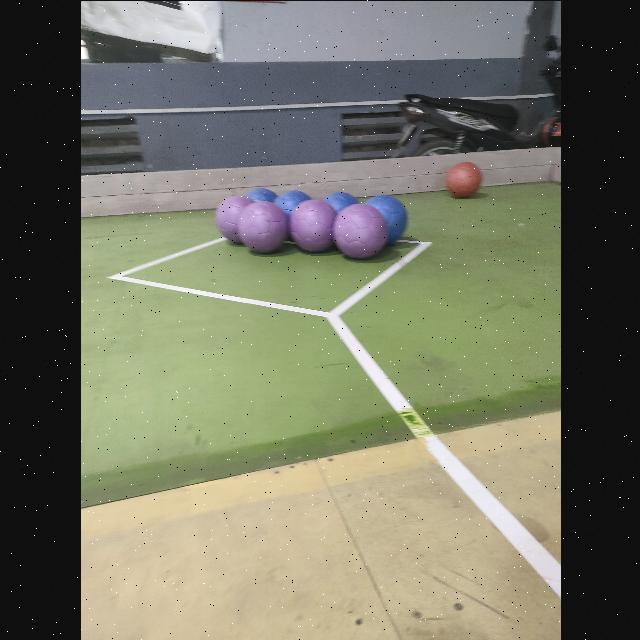B: (364, 194, 406, 242), (273, 190, 309, 216), (323, 191, 357, 211)
P: (333, 202, 387, 258), (237, 199, 287, 251), (288, 198, 336, 250), (214, 190, 256, 242)
R: (446, 162, 480, 196)
